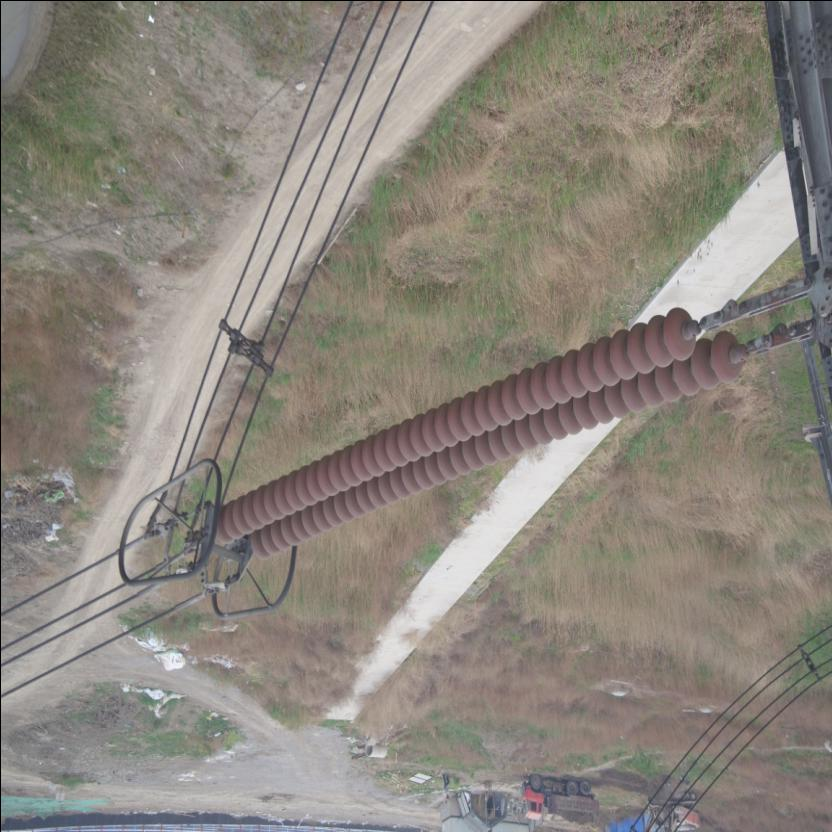insulator: (209, 303, 760, 562)
